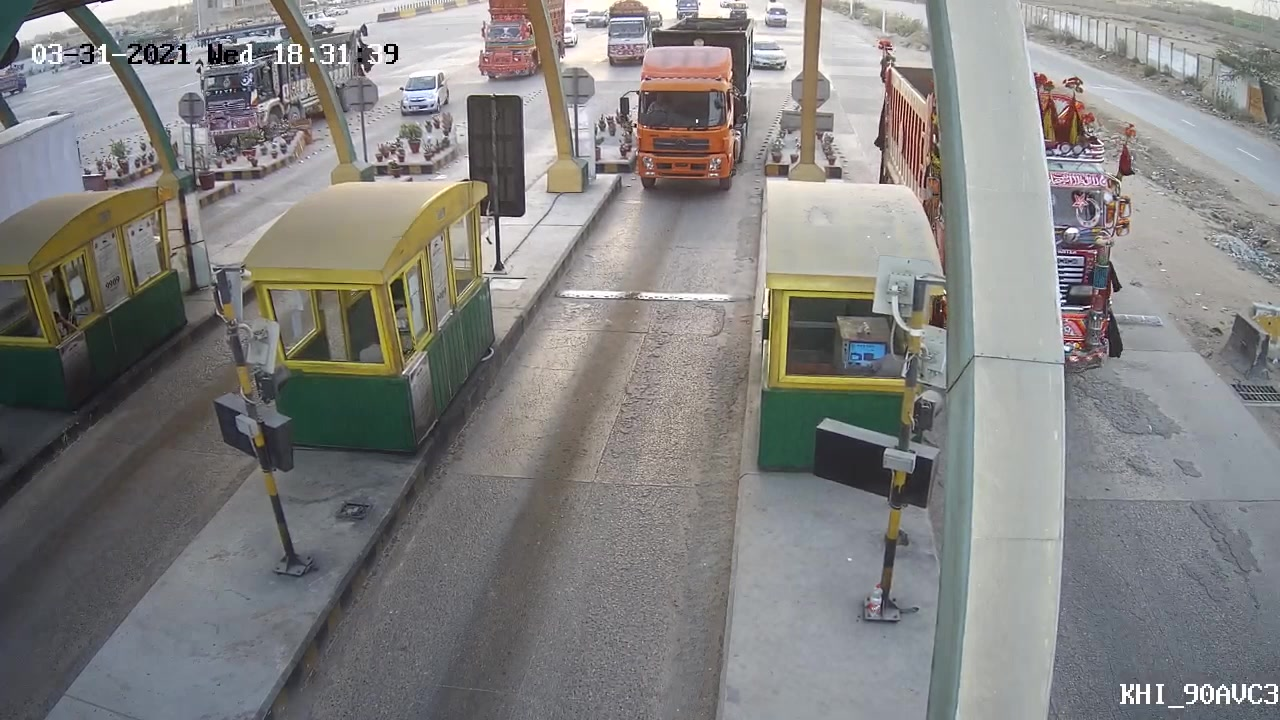F6: (616, 23, 764, 193)
